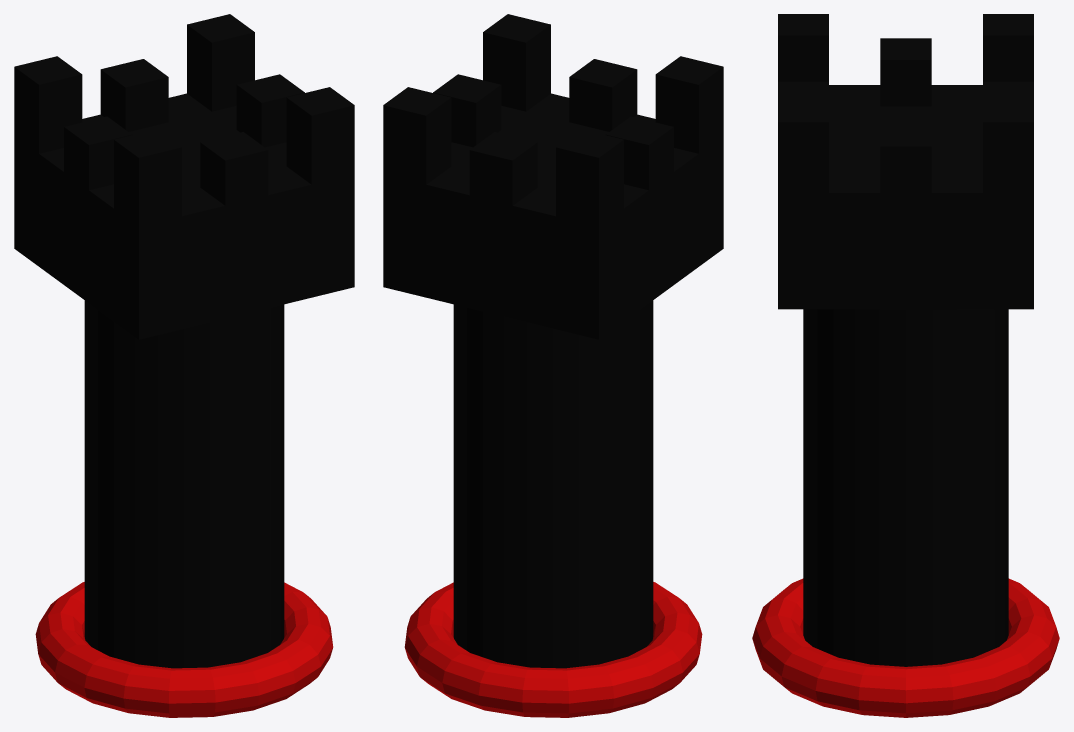
Rendered from BlackRook.obj.
3 renders of one model, left to right at view 1: azimuth 30°, elevation 25°; view 2: azimuth 150°, elevation 25°; view 3: azimuth 270°, elevation 25°, orthographic. The views are drawn at different scales.
Visible parts, largest first — view 1: Cylinder_Cylinder.004, Cube_Cube.002, Torus.004, Cube.006_Cube.008, Cube.005_Cube.007, Cube.003_Cube.005, Cube.002_Cube.004, Cube.004_Cube.006, Cube.001_Cube.003, Cube.008_Cube.010, Cube.007_Cube.009; view 2: Cylinder_Cylinder.004, Cube_Cube.002, Torus.004, Cube.002_Cube.004, Cube.003_Cube.005, Cube.005_Cube.007, Cube.006_Cube.008, Cube.001_Cube.003, Cube.004_Cube.006, Cube.008_Cube.010, Cube.007_Cube.009; view 3: Cylinder_Cylinder.004, Cube_Cube.002, Torus.004, Cube.002_Cube.004, Cube.006_Cube.008, Cube.008_Cube.010, Cube.007_Cube.009, Cube.003_Cube.005, Cube.005_Cube.007, Cube.001_Cube.003, Cube.004_Cube.006.
Boxes of the visible parts, <box> form: Cylinder_Cylinder.004: <box>84,300,284,668</box>; Cube_Cube.002: <box>14,93,354,339</box>; Torus.004: <box>35,582,333,717</box>; Cube.006_Cube.008: <box>286,87,354,185</box>; Cube.005_Cube.007: <box>114,129,181,227</box>; Cube.003_Cube.005: <box>14,56,82,153</box>; Cube.002_Cube.004: <box>187,14,254,111</box>; Cube.004_Cube.006: <box>200,132,268,205</box>; Cube.001_Cube.003: <box>100,59,168,131</box>; Cube.008_Cube.010: <box>64,116,131,190</box>; Cube.007_Cube.009: <box>236,74,304,147</box>; Cylinder_Cylinder.004: <box>453,300,653,668</box>; Cube_Cube.002: <box>383,93,723,339</box>; Torus.004: <box>404,582,702,717</box>; Cube.002_Cube.004: <box>383,87,451,185</box>; Cube.003_Cube.005: <box>556,129,623,227</box>; Cube.005_Cube.007: <box>655,56,723,154</box>; Cube.006_Cube.008: <box>483,14,550,111</box>; Cube.001_Cube.003: <box>469,132,537,205</box>; Cube.004_Cube.006: <box>569,59,637,131</box>; Cube.008_Cube.010: <box>606,116,673,190</box>; Cube.007_Cube.009: <box>433,74,501,147</box>; Cylinder_Cylinder.004: <box>803,309,1008,666</box>; Cube_Cube.002: <box>778,85,1033,309</box>; Torus.004: <box>752,578,1059,717</box>; Cube.002_Cube.004: <box>983,100,1033,194</box>; Cube.006_Cube.008: <box>778,100,828,194</box>; Cube.008_Cube.010: <box>880,38,931,106</box>; Cube.007_Cube.009: <box>880,125,931,192</box>; Cube.003_Cube.005: <box>983,14,1033,81</box>; Cube.005_Cube.007: <box>778,14,828,81</box>; Cube.001_Cube.003: <box>983,81,1033,100</box>; Cube.004_Cube.006: <box>778,81,828,100</box>.
Size of the model in its own units: 0.6 by 1.28 by 0.6.
